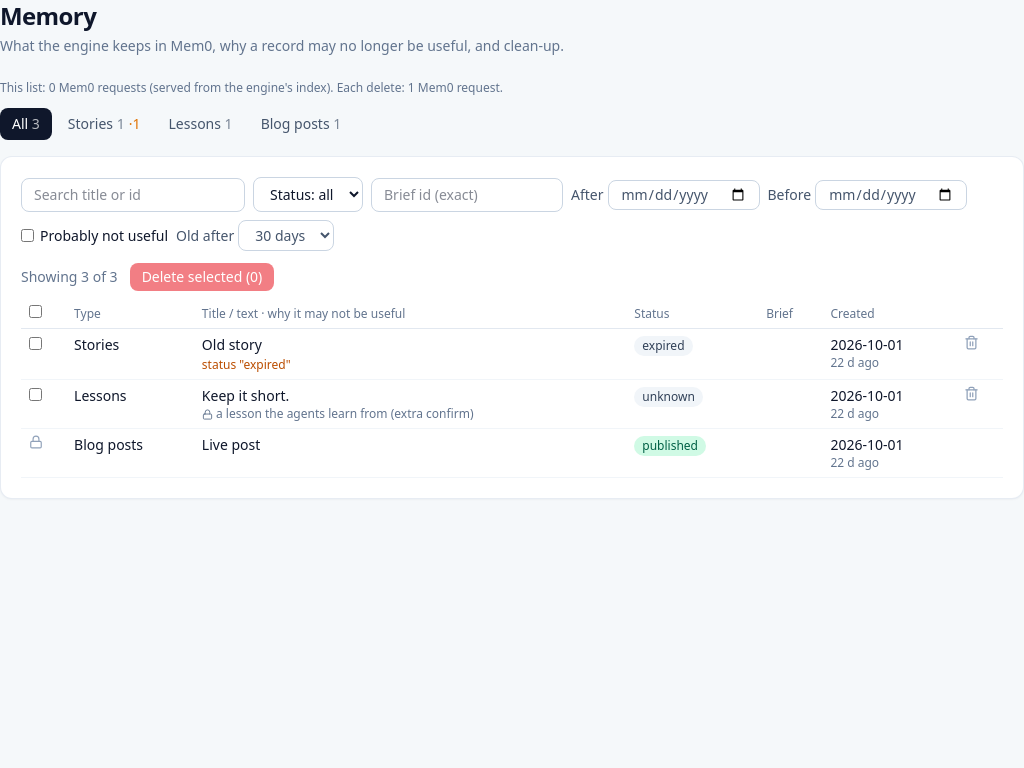
Test case: Memory › delete a selection: the dialog lists the records, the Mem0 cost and needs the tick for protected ones
Click the checkbox named "Select all shown". click: (36, 312)
box: [29,305,42,318]
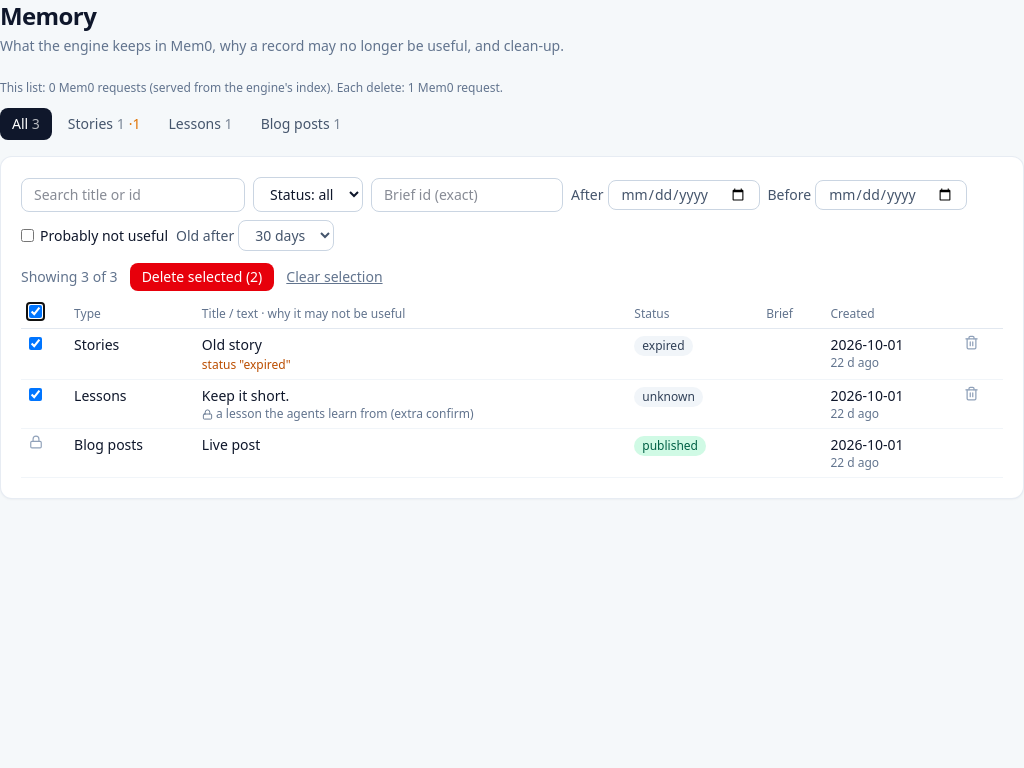
Click the button "Delete selected (2)". click: (202, 277)
box: [130,263,274,291]
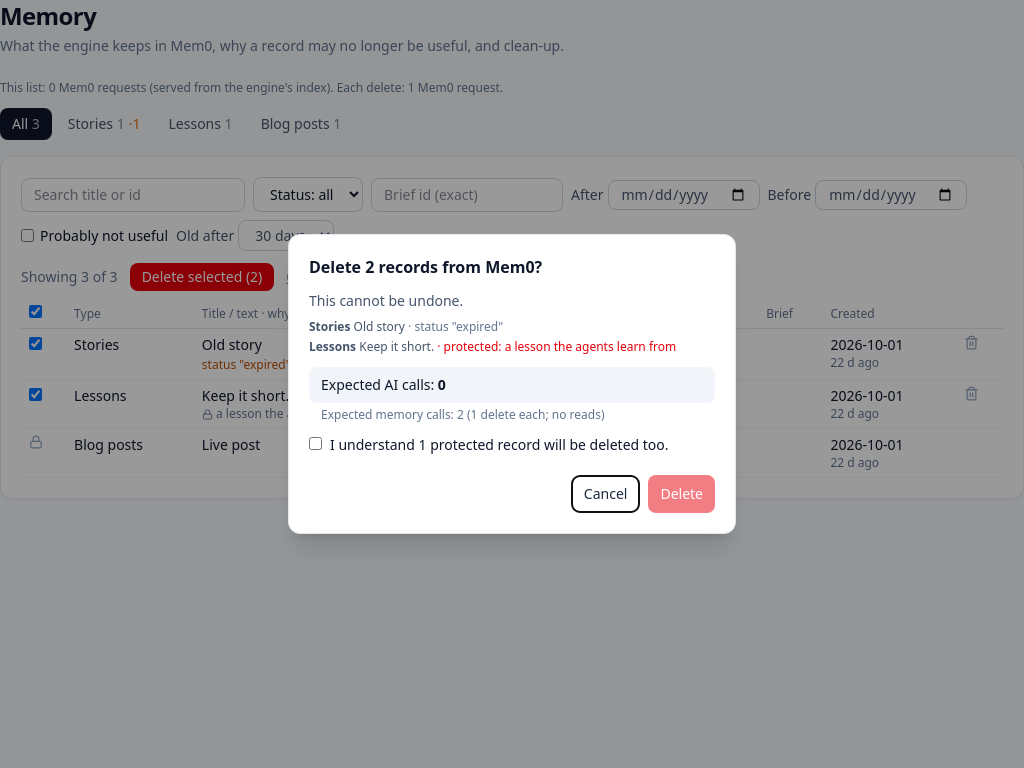
Now the heading "Delete 2 records from Mem0?" is shown, box [309,256,542,278]
Now the text with test id "expected-mem0" shows "2 (1 delete each; no reads)", box [457,406,605,423]
Now the list named "Records to delete" shows "Old story", box [354,318,405,335]
Click the checkbox. click: (316, 444)
box: [309,437,322,450]
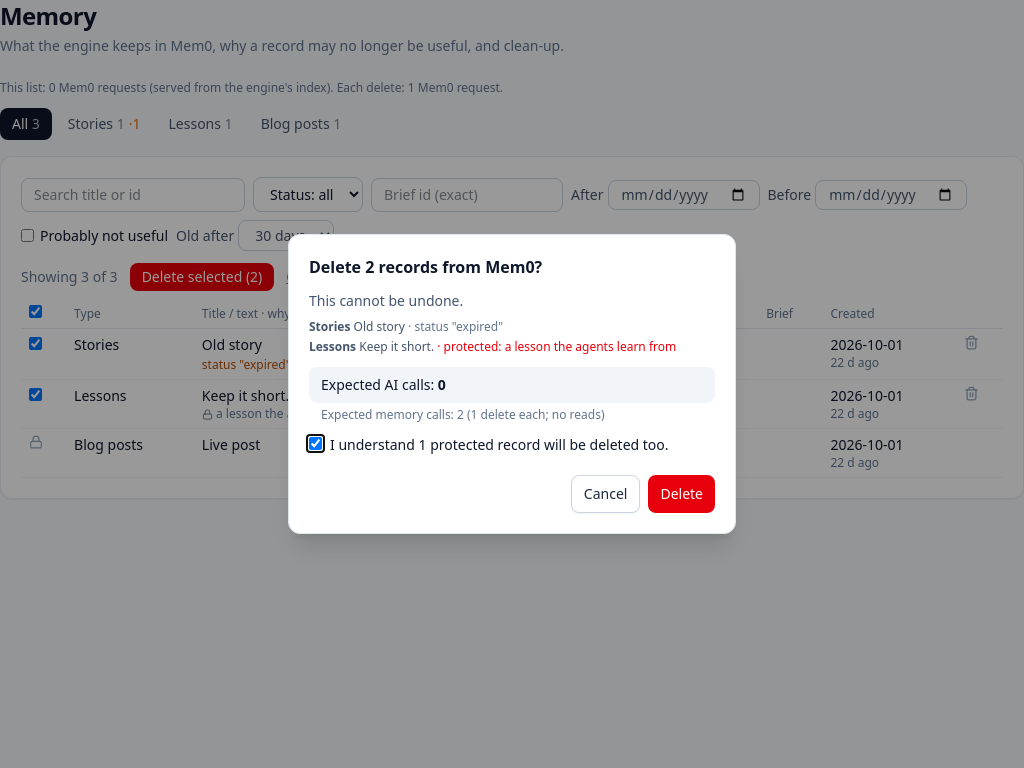
Click the button "Delete". click: (682, 494)
box: [648,475,715,513]
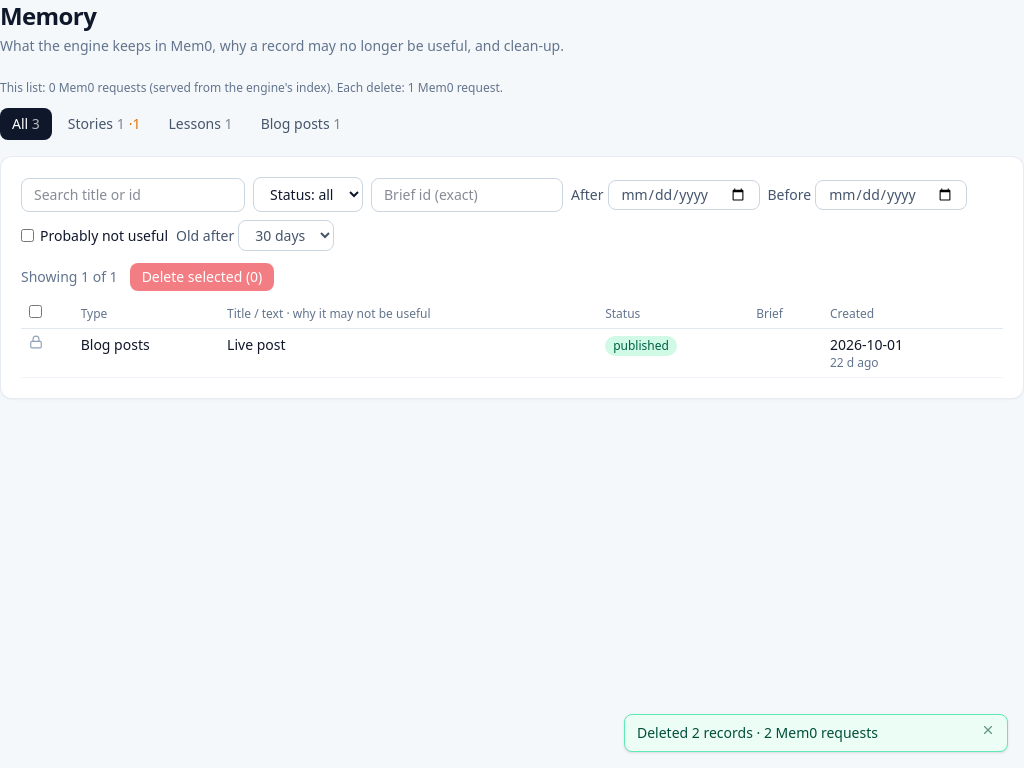
Now the link "Old story" is gone
Now the text "Deleted 2 records · 2 Mem0 requests" is shown, box [637,723,878,742]
